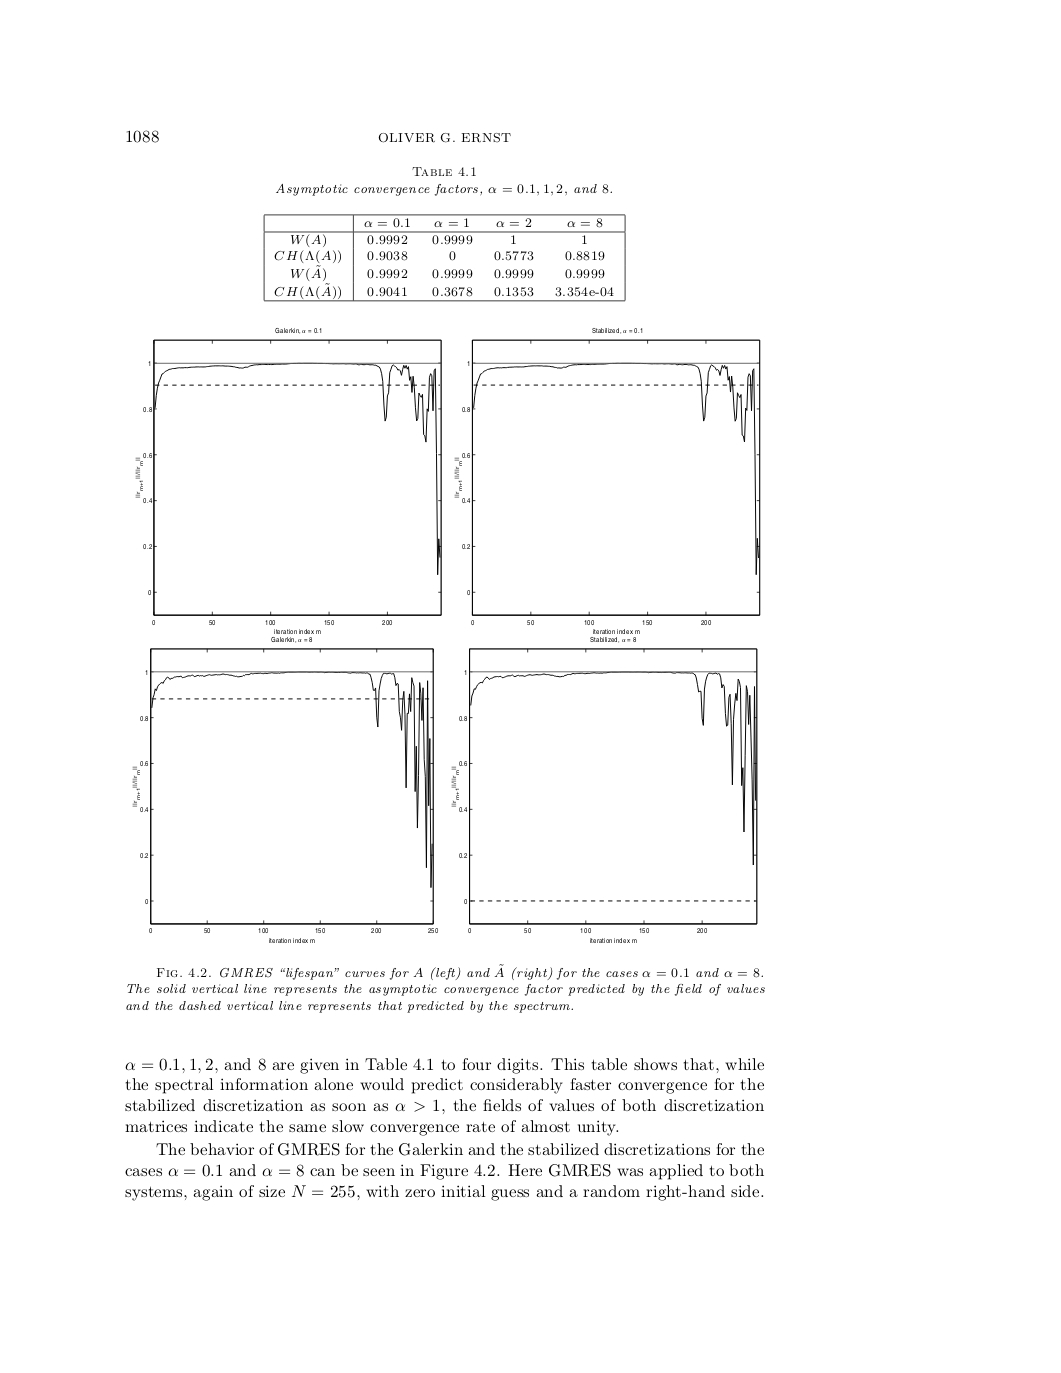Table: (263, 212, 625, 302)
figure: (132, 642, 437, 942), (451, 642, 757, 942), (135, 339, 441, 631), (454, 339, 760, 629)
